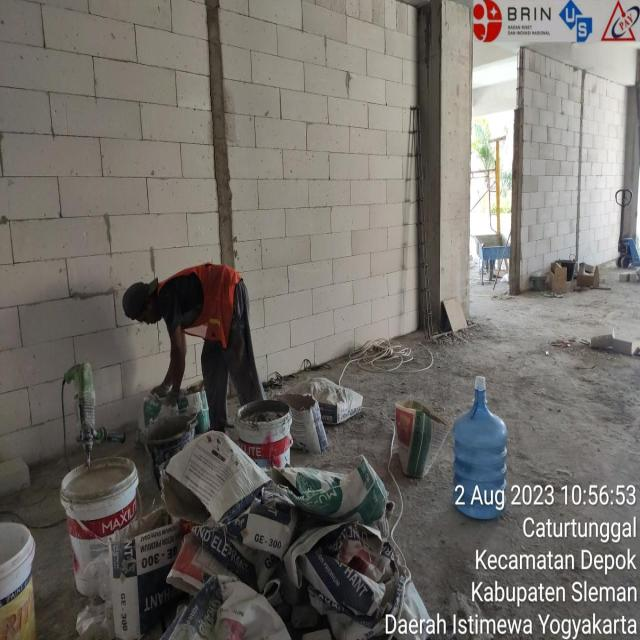Helmet: (111, 278, 167, 332)
Safety Vest: (158, 252, 247, 345)
